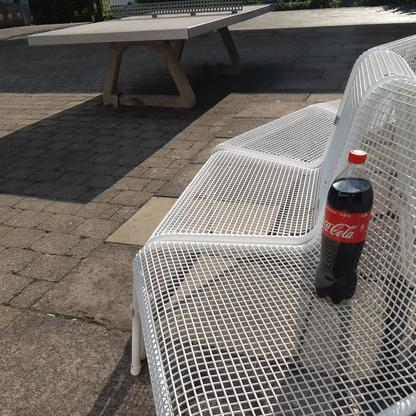coca-cola: (312, 147, 376, 304)
